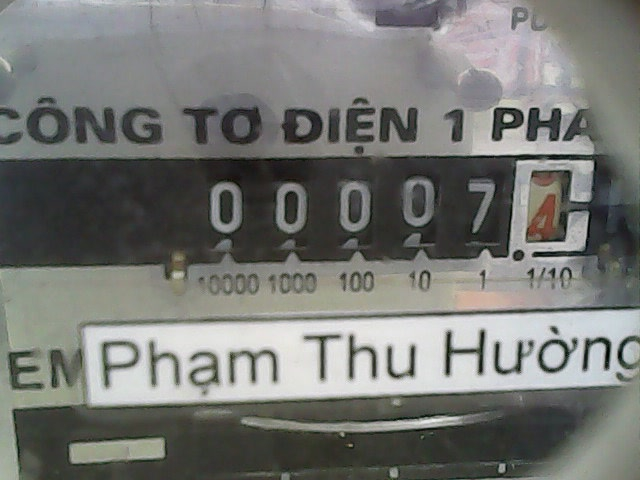phy_plate: (192, 149, 601, 265)
